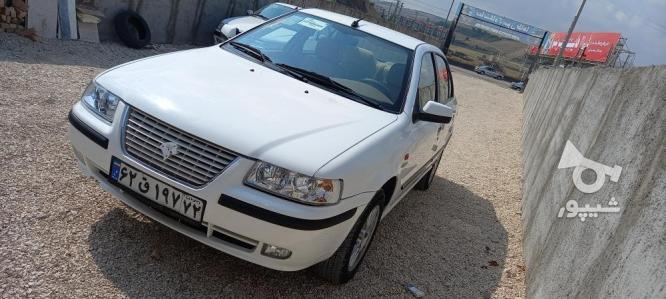car: (109, 158, 206, 223)
